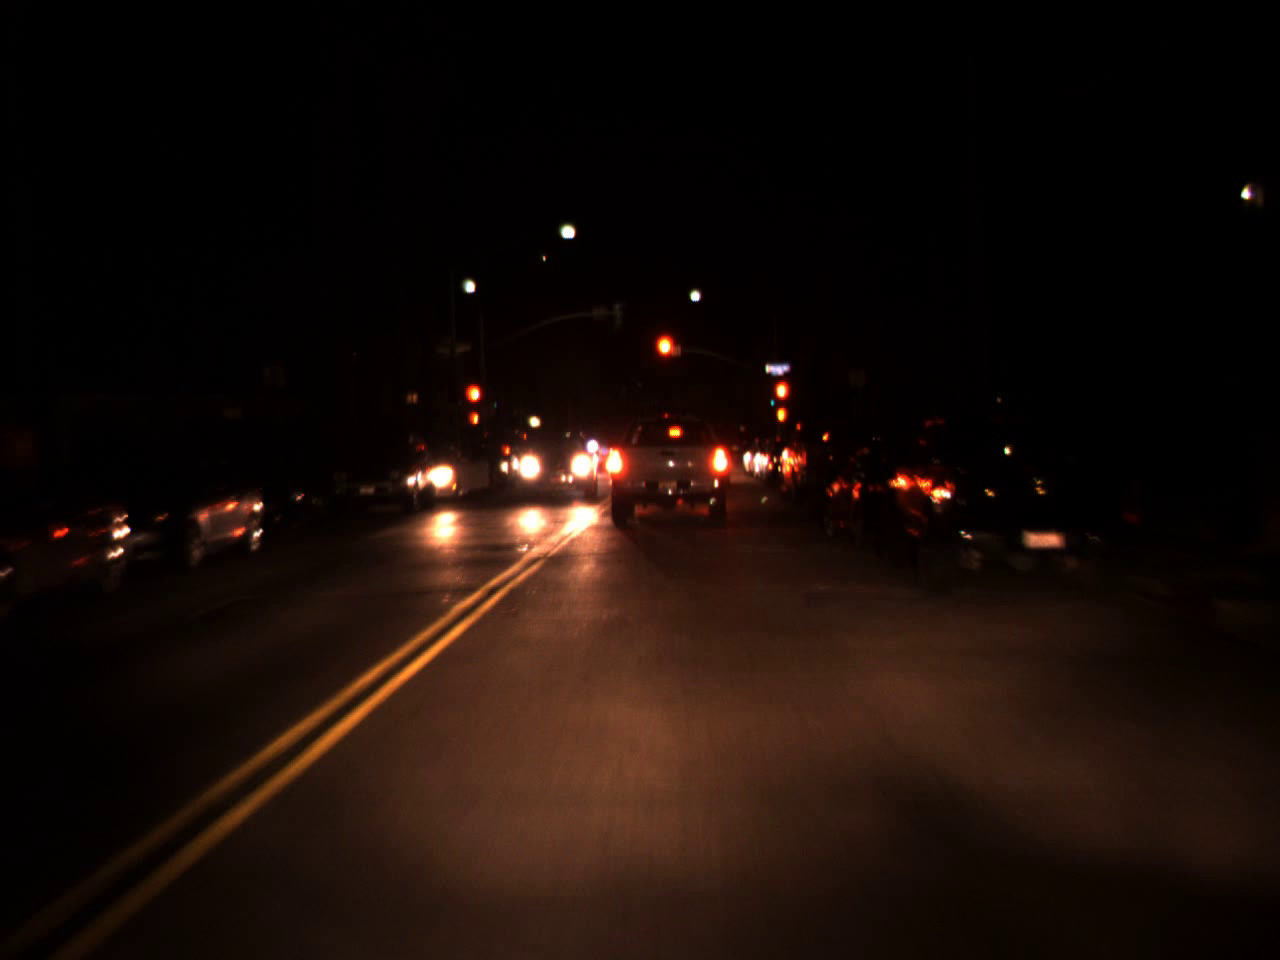stop: (652, 331, 677, 385), (462, 382, 483, 425), (773, 378, 791, 421)
